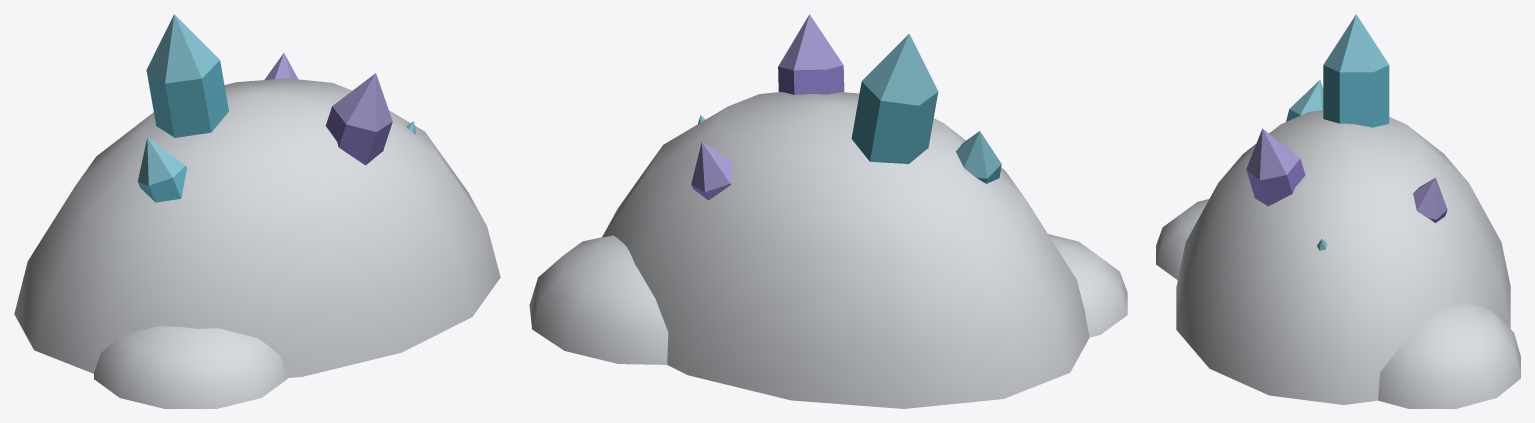
The model's file is ice-deco2.glb.
The picture shows the model from 3 angles, left to right: view 1: azimuth 30°, elevation 25°; view 2: azimuth 150°, elevation 25°; view 3: azimuth 270°, elevation 25°; orthographic projection. The views are drawn at different scales.
Visible parts, largest first — view 1: ice-deco2; view 2: ice-deco2; view 3: ice-deco2.
Boxes of the visible parts, <box> form: ice-deco2: <box>14,14,500,408</box>; ice-deco2: <box>529,14,1127,408</box>; ice-deco2: <box>1156,14,1520,408</box>.
Bounding box in the file's own units: 3.67 × 2.27 × 2.87.
